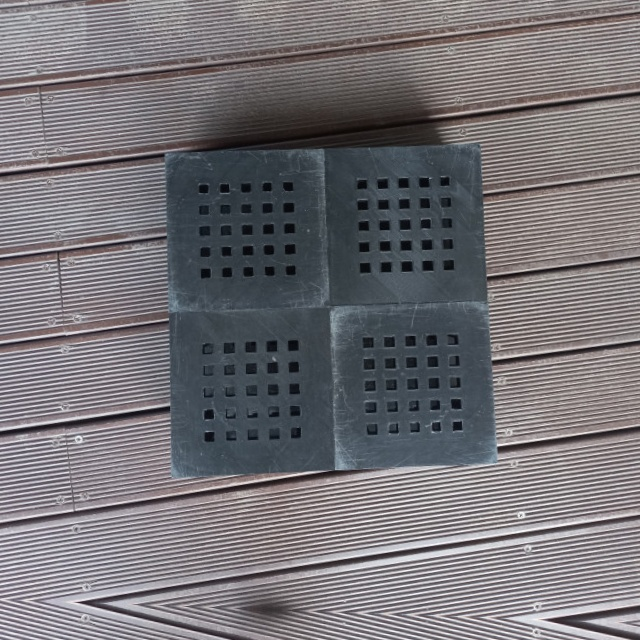pallet: (155, 132, 500, 485)
